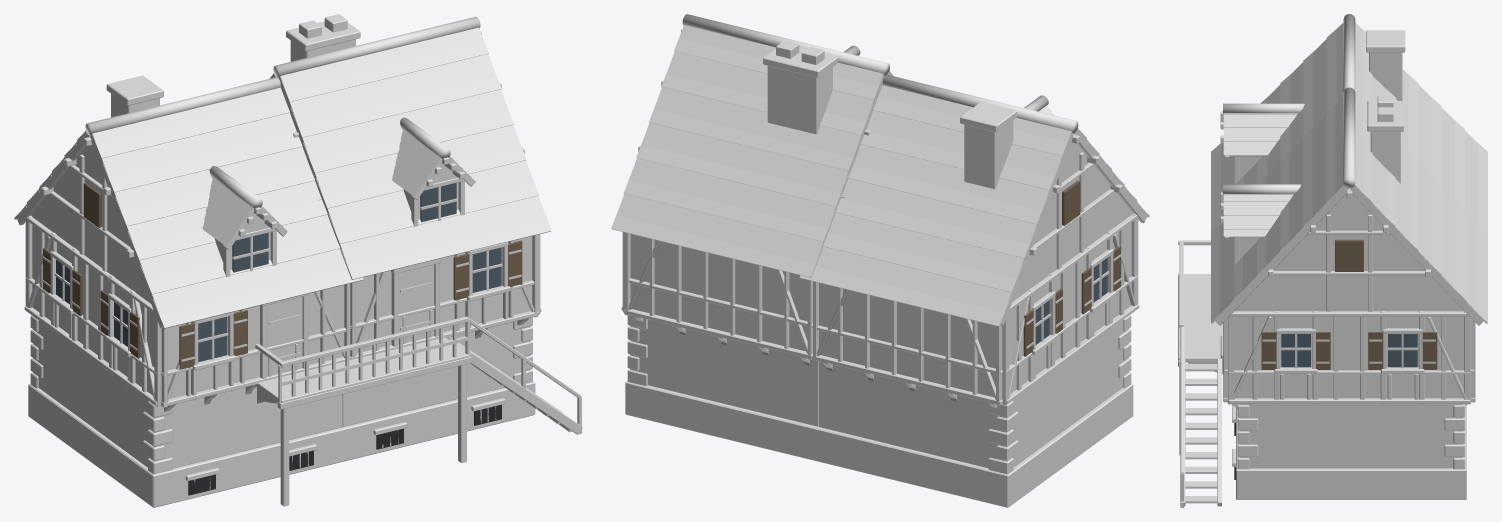
Rendered from ville_11_collees_balcon_commun.fbx.
3 views of the same model, side by side, from view 1: azimuth 30°, elevation 25°; view 2: azimuth 150°, elevation 25°; view 3: azimuth 270°, elevation 25° (orthographic). The views are drawn at different scales.
Parts seen in each view (by area): view 1: ville_11_collees_balcon_commun_LOD0; view 2: ville_11_collees_balcon_commun_LOD0; view 3: ville_11_collees_balcon_commun_LOD0.
Part boxes in pixels (x1,y1,x2,y2): ville_11_collees_balcon_commun_LOD0: (14,14,582,507); ville_11_collees_balcon_commun_LOD0: (611,14,1149,507); ville_11_collees_balcon_commun_LOD0: (1178,14,1487,507).
Size of what is drawn, in the model's own units: 10.8 by 9.31 by 7.76.
